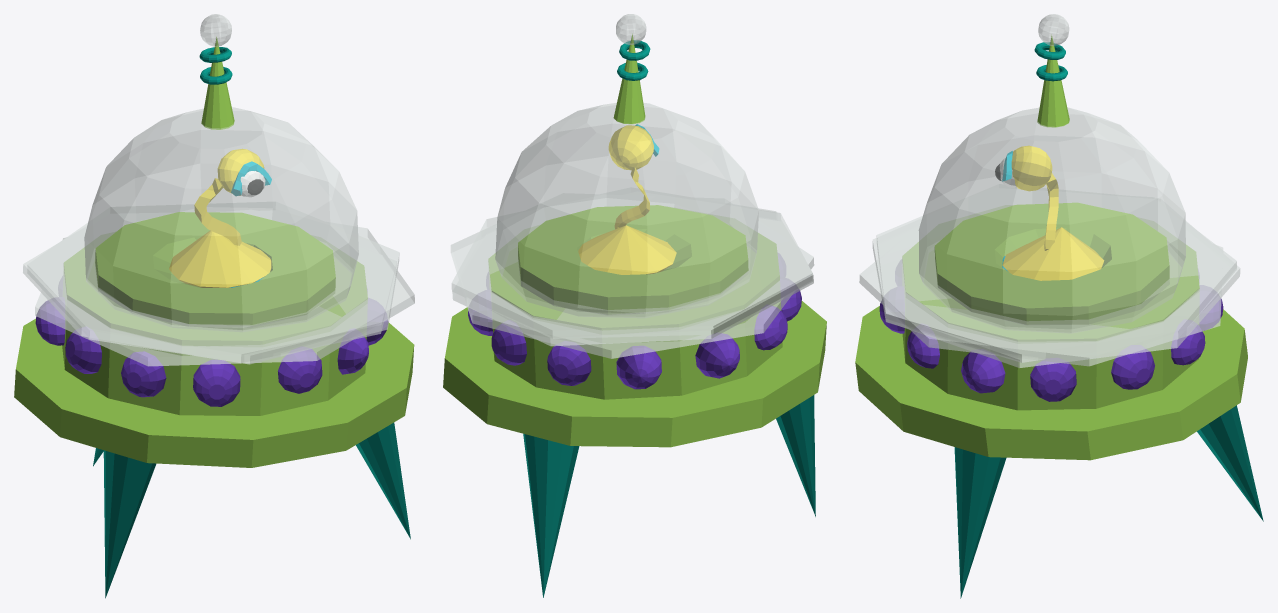
Rendered from alien in green spaceship.glb.
3 views of the same model, side by side, from view 1: azimuth 30°, elevation 25°; view 2: azimuth 150°, elevation 25°; view 3: azimuth 270°, elevation 25° (orthographic). The views are drawn at different scales.
Parts seen in each view (by area): view 1: group218607574, group1374305804, group549003256, group1782542218; view 2: group218607574, group1374305804, group1782542218, group549003256; view 3: group218607574, group1374305804, group1782542218, group549003256.
Boxes of the visible parts, <box> form: group218607574: <box>14,14,414,598</box>; group1374305804: <box>169,230,271,287</box>; group549003256: <box>194,178,241,245</box>; group1782542218: <box>217,148,264,195</box>; group218607574: <box>443,14,826,597</box>; group1374305804: <box>578,225,676,274</box>; group1782542218: <box>608,125,653,170</box>; group549003256: <box>614,166,649,228</box>; group218607574: <box>855,14,1263,598</box>; group1374305804: <box>1002,227,1103,280</box>; group1782542218: <box>1011,145,1052,191</box>; group549003256: <box>1044,173,1058,250</box>.
Size of the model in its own units: 0.5838 by 0.8498 by 0.6121.
